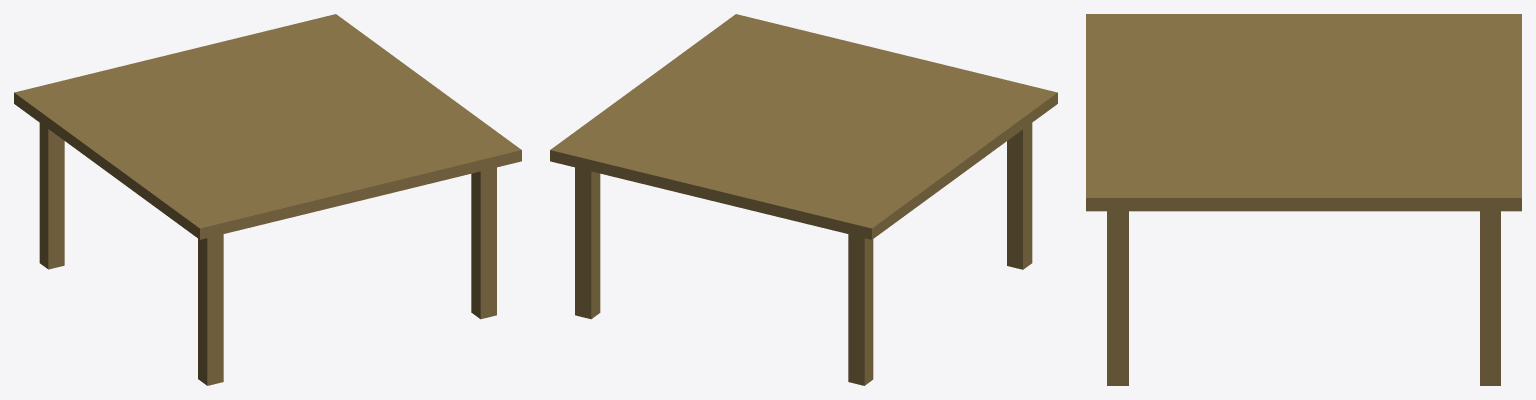
The model's file is School Desk.fbx.
3 views of the same model, side by side, from view 1: azimuth 30°, elevation 25°; view 2: azimuth 150°, elevation 25°; view 3: azimuth 270°, elevation 25° (orthographic). The views are drawn at different scales.
Visible parts, largest first — view 1: School Desk; view 2: School Desk; view 3: School Desk.
Boxes of the visible parts, box(x1,y1,x2,y2) form: School Desk: box(14, 14, 521, 385); School Desk: box(550, 14, 1057, 385); School Desk: box(1086, 14, 1521, 385).
Bounding box in the file's own units: 200 × 99.73 × 200.
